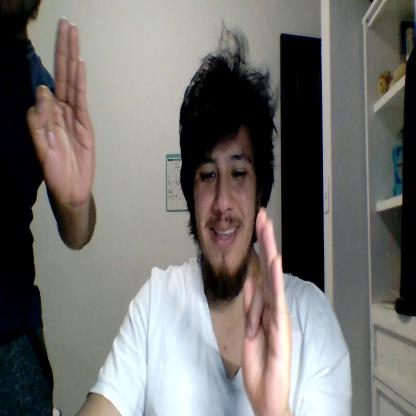F: (28, 19, 96, 202), (241, 207, 291, 415)
